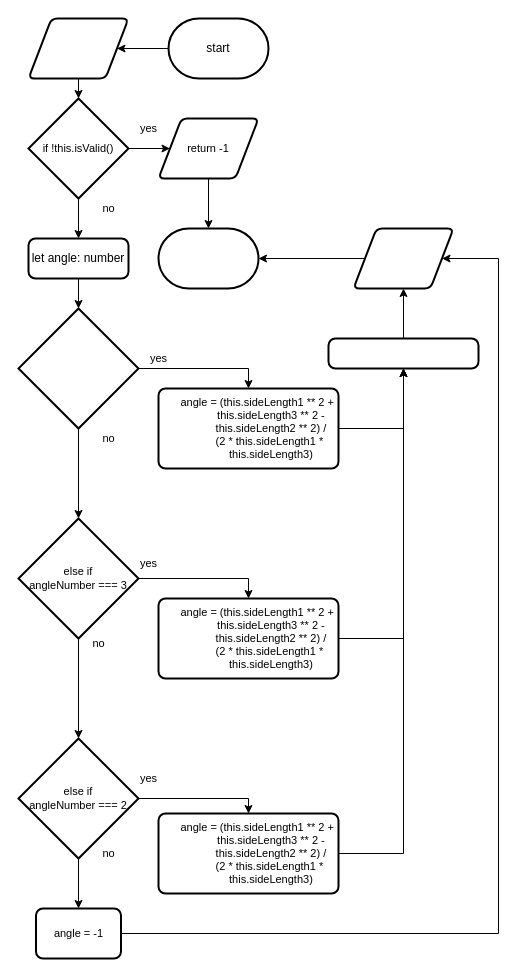
The diagram is 524 pixels wide and 976 high, and some of its shapes have lost their labels. Each missing label, with the centre of its shape:
"angle = Math.acos(angle)" goes at (x=403, y=353).
"if angleNumber === 1" goes at (x=78, y=368).
"param angleNumber" goes at (x=78, y=48).
"return angle" goes at (x=403, y=258).
"stop" goes at (x=208, y=258).
